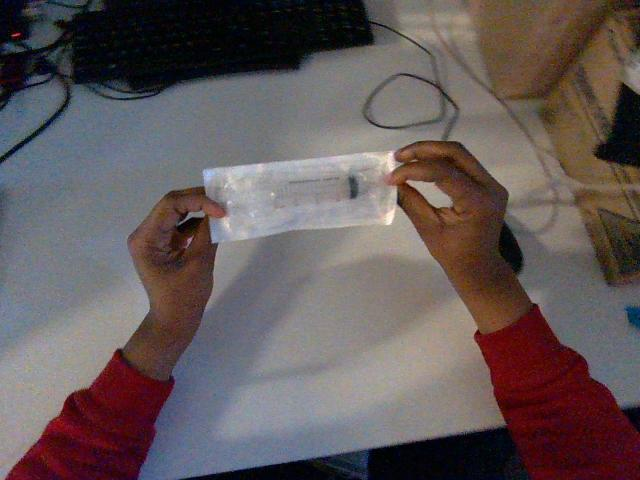syringe: (203, 152, 396, 242)
